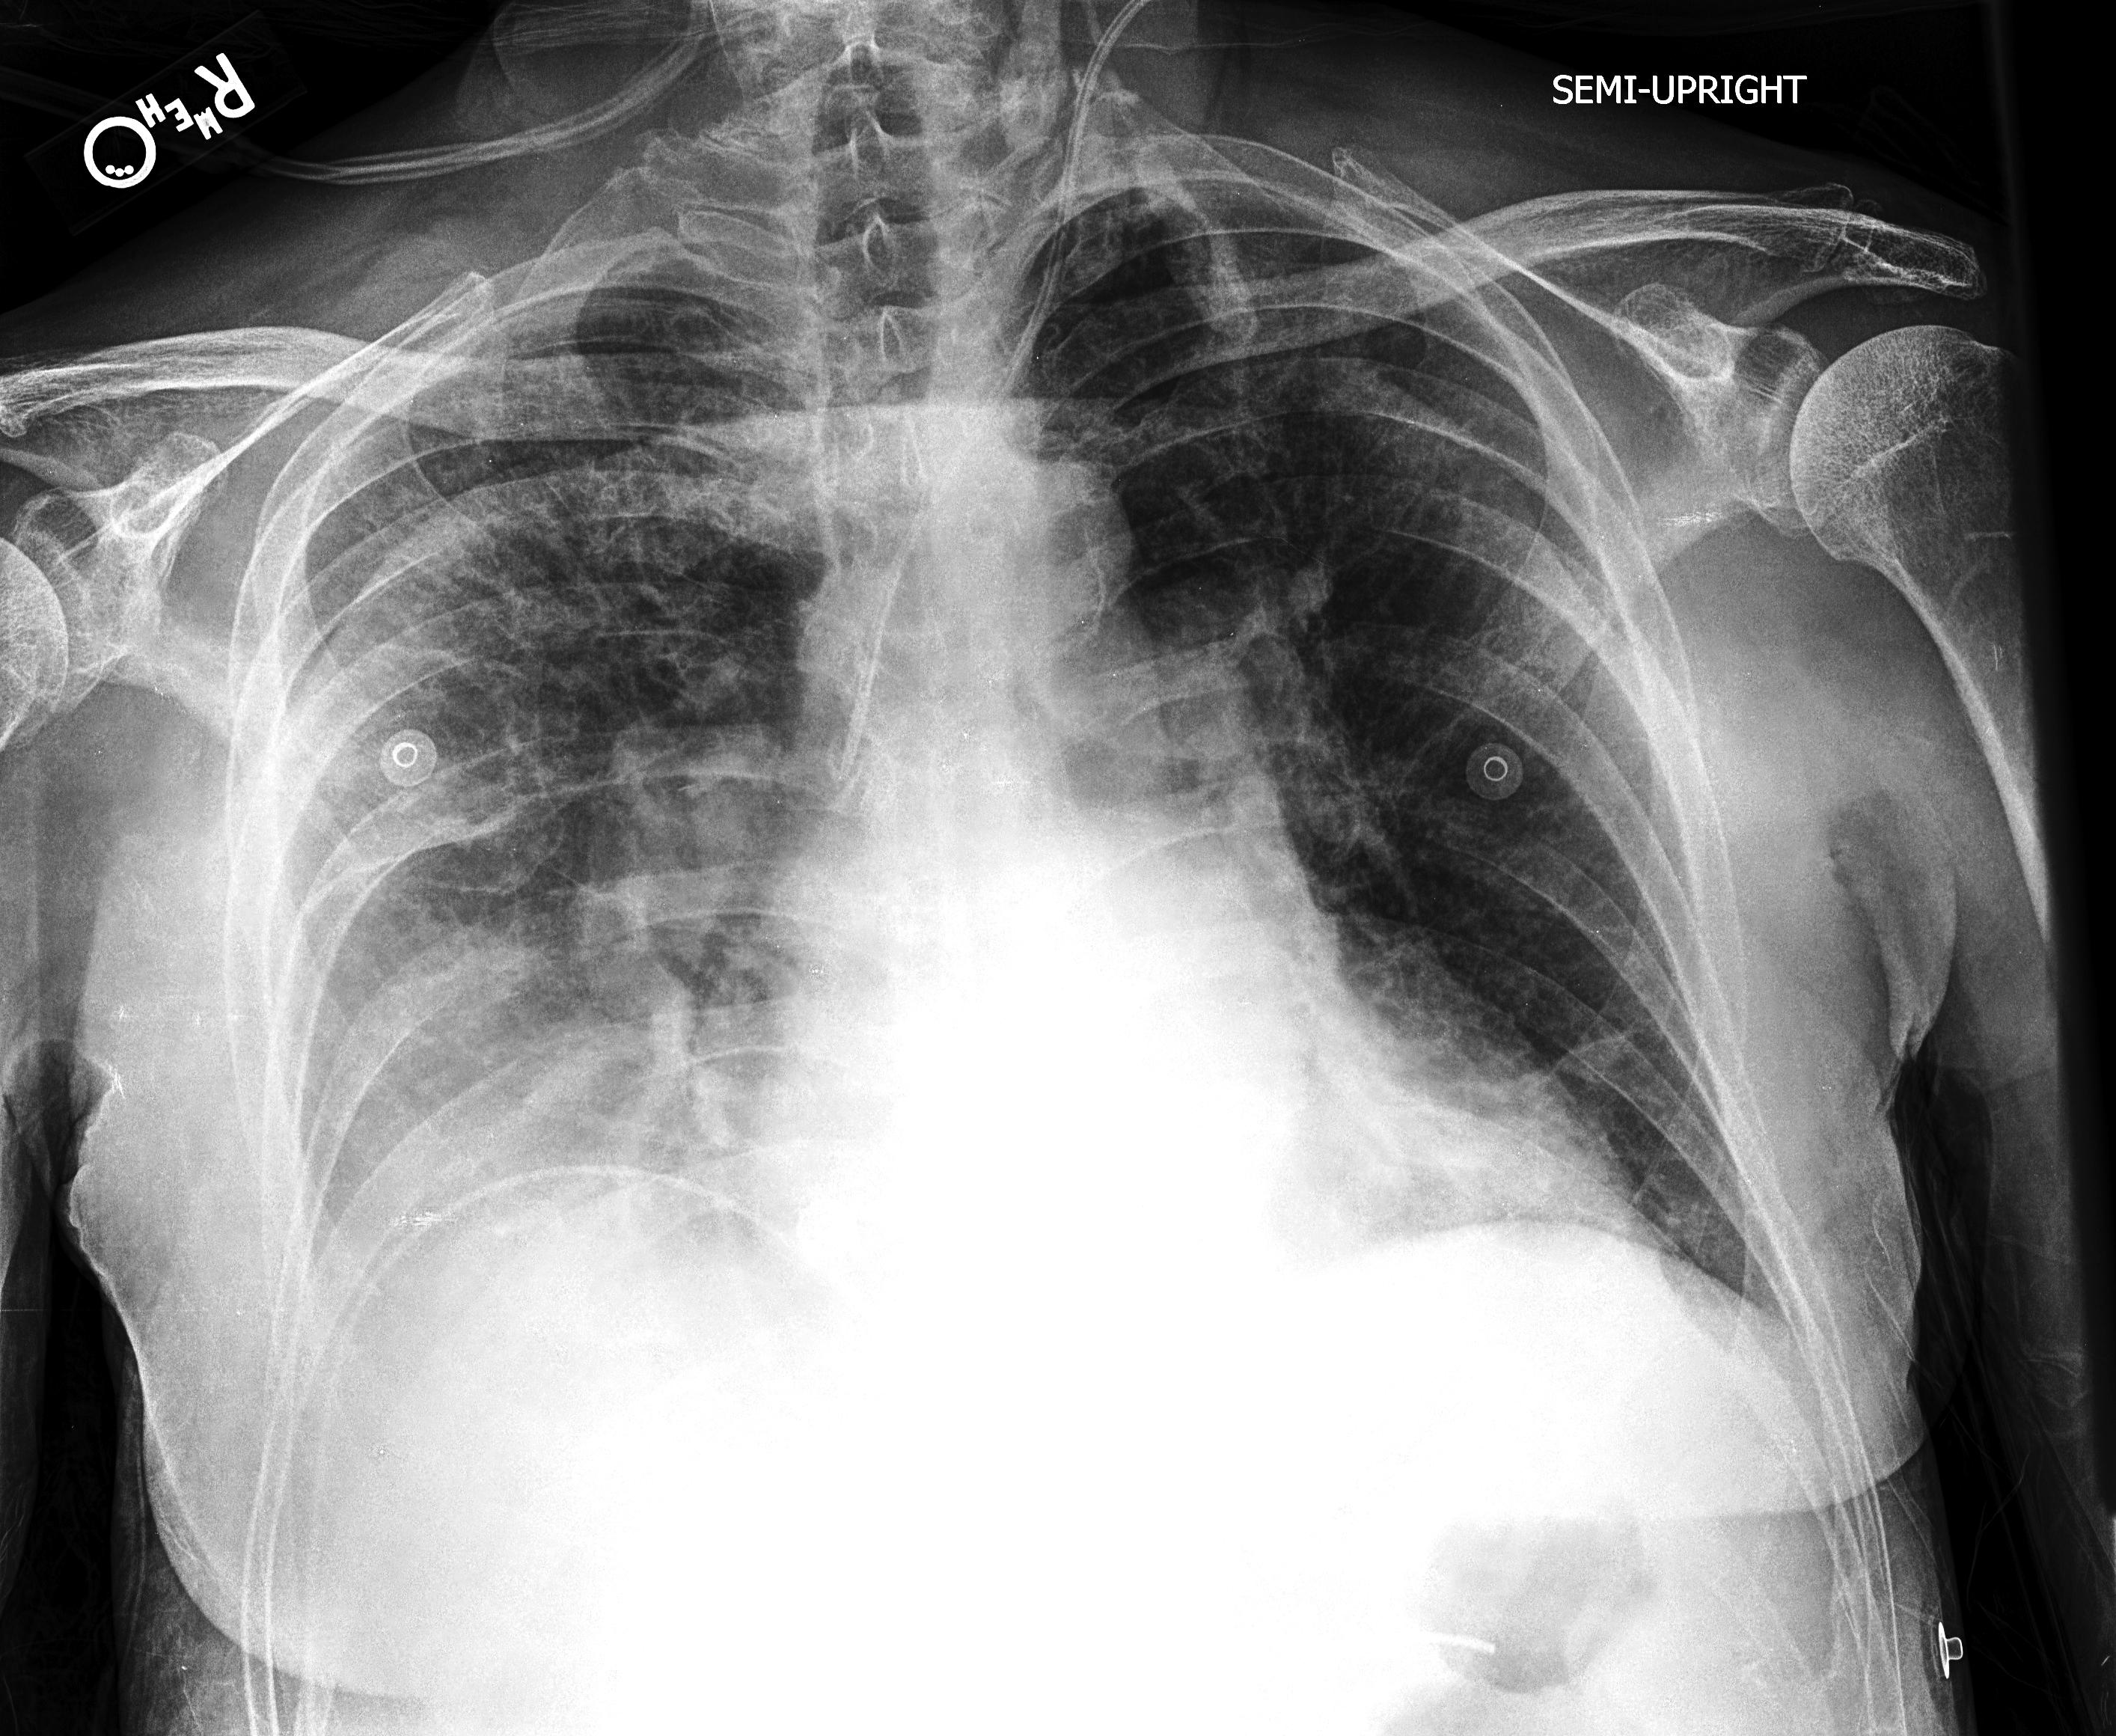Pleural Effusion: (257, 1093, 794, 1495)
